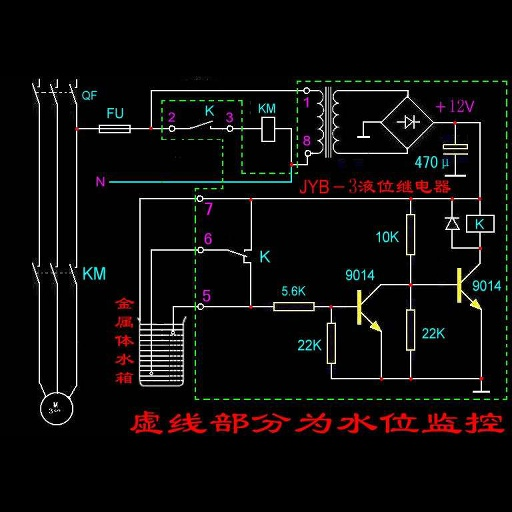firstresistance: (402, 212, 420, 259), (270, 297, 318, 314), (403, 305, 418, 354), (326, 320, 339, 367)
fuse: (95, 120, 135, 137)
npn: (351, 282, 389, 337), (449, 261, 487, 315)
seconddiode: (440, 212, 462, 234)
transformer: (314, 86, 344, 159)
